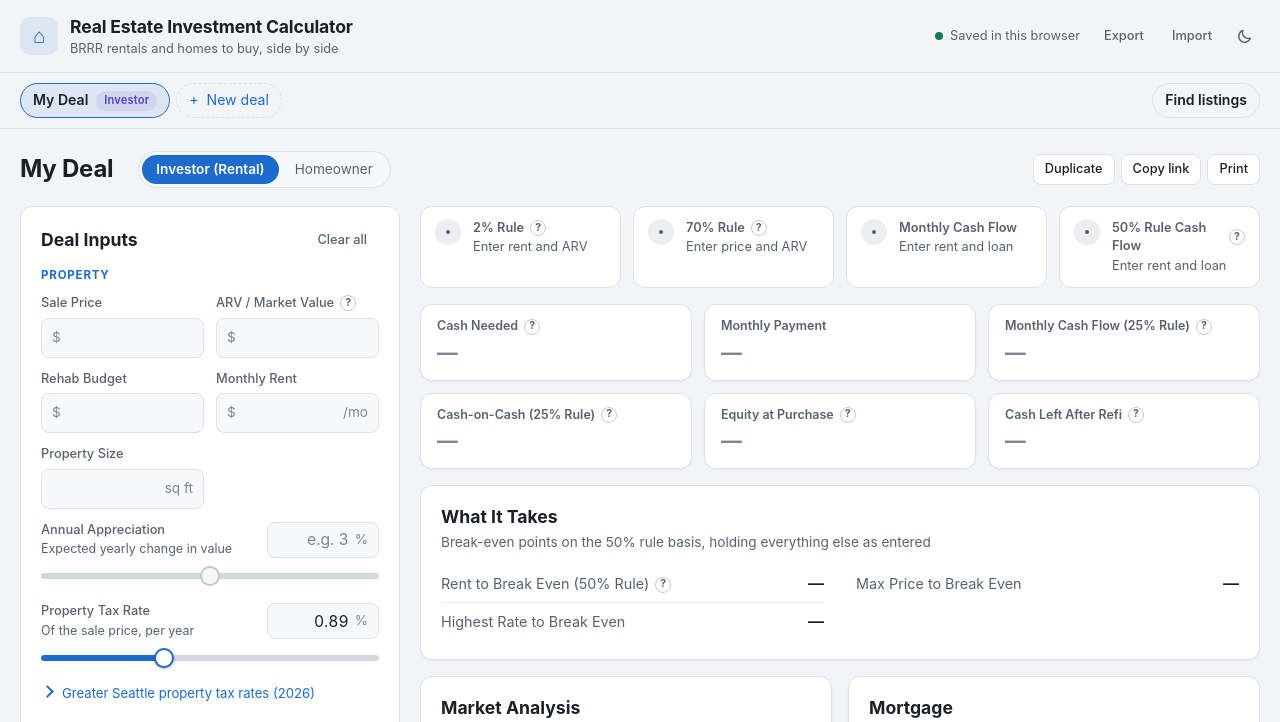
App › switches a deal to homeowner mode
Click the radio button labelled "Homeowner" at (334, 169), box x1=281 y1=155 x2=387 y2=184
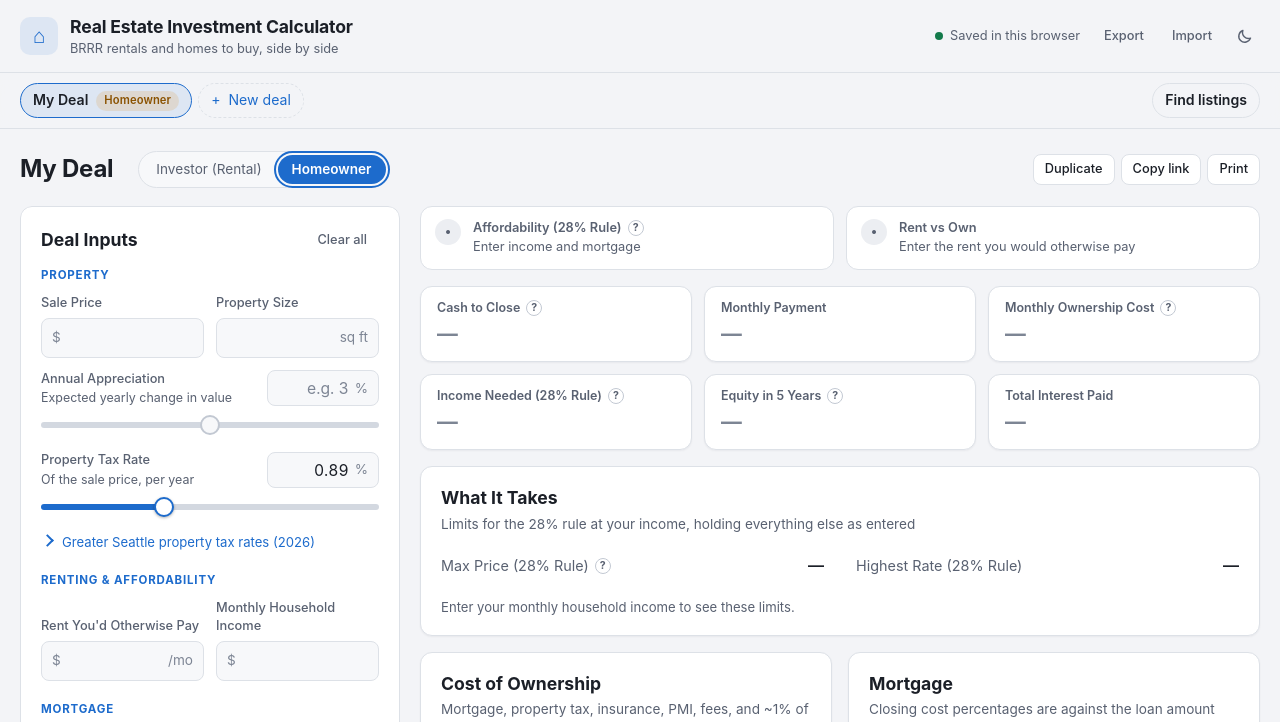
expect the heading "Cost of Ownership" is shown: met, box x1=441 y1=673 x2=601 y2=694
expect the text "Cash Flow" is gone: met
expect the label labelled "Monthly Rent" is gone: met
